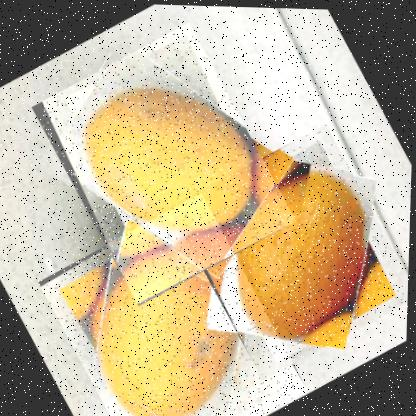orange: (26, 15, 302, 309), (165, 116, 412, 383), (34, 187, 315, 415)
